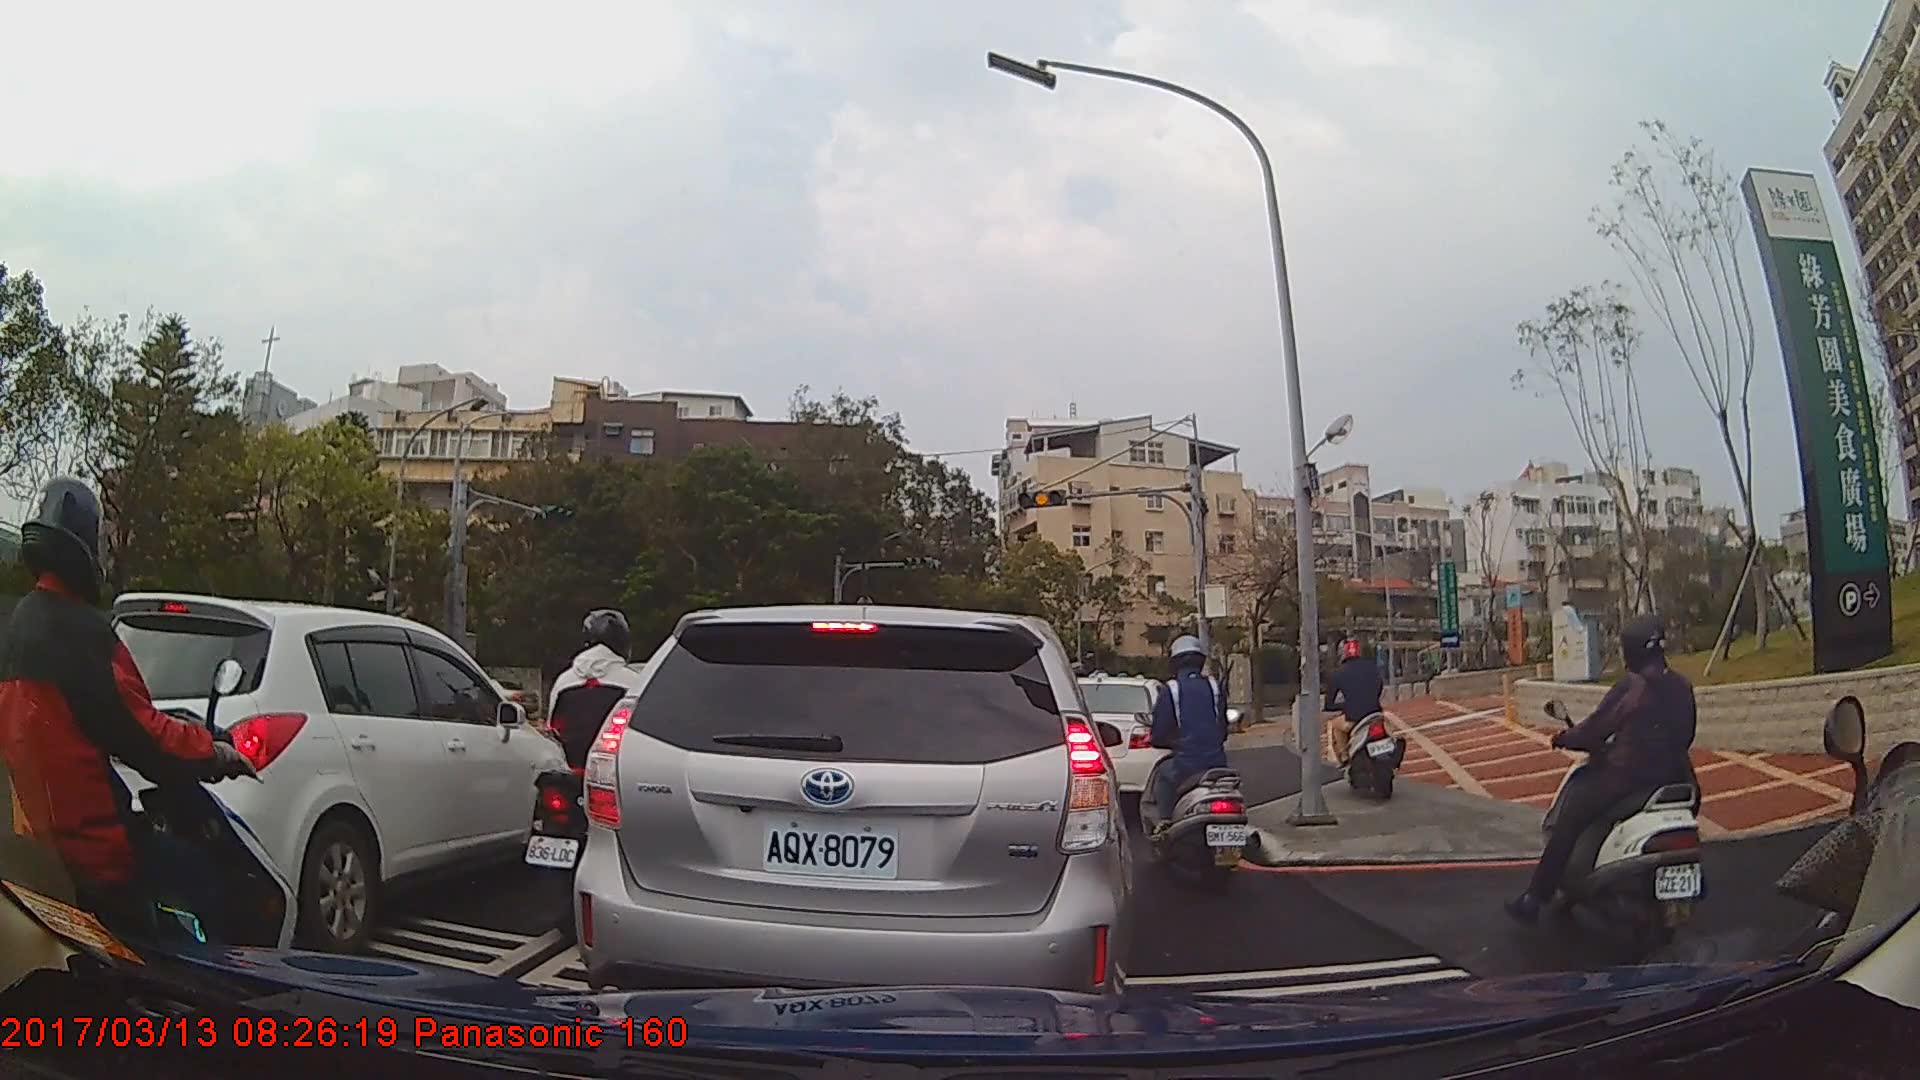rider: (1, 464, 310, 1071), (1509, 611, 1708, 940), (512, 604, 679, 922), (1137, 632, 1256, 896), (1325, 637, 1404, 810)
vehicle: (569, 601, 1133, 1016), (38, 592, 579, 960)
